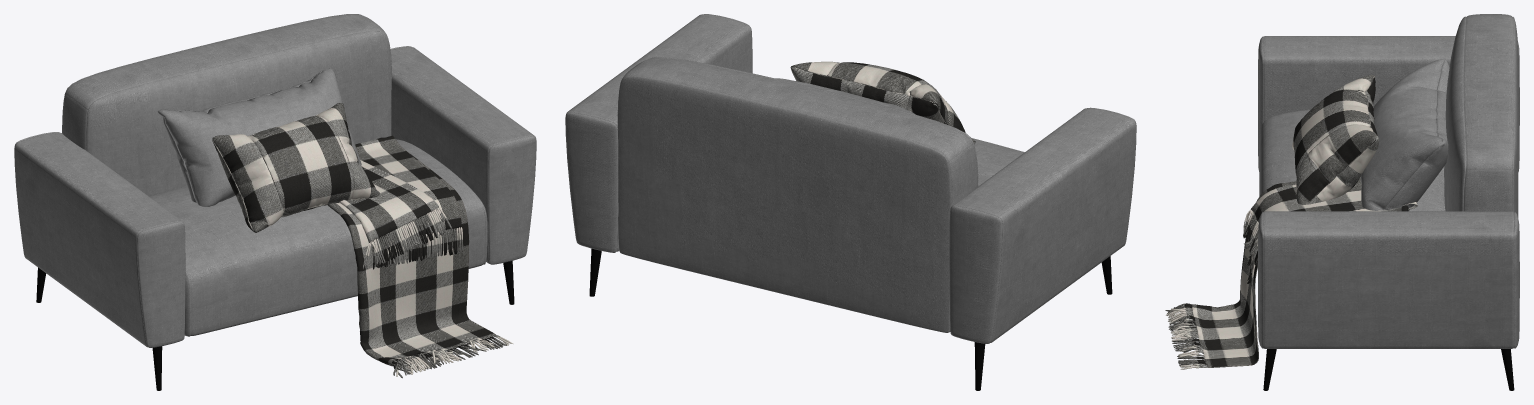
File: MEGA_PACK_Sofa__2-seater_fabric_sofa.glb
The picture shows the model from 3 angles, left to right: view 1: azimuth 30°, elevation 25°; view 2: azimuth 150°, elevation 25°; view 3: azimuth 270°, elevation 25°; orthographic projection. The views are drawn at different scales.
Visible parts, largest first — view 1: 2-seater fabric sofa; view 2: 2-seater fabric sofa; view 3: 2-seater fabric sofa.
Boxes of the visible parts, x1=… form: 2-seater fabric sofa: x1=14, y1=14, x2=536, y2=390; 2-seater fabric sofa: x1=565, y1=14, x2=1136, y2=390; 2-seater fabric sofa: x1=1165, y1=14, x2=1519, y2=390.
Size of the model in its own units: 1.37 by 0.7126 by 1.03.
3 materials, 3 textured.
